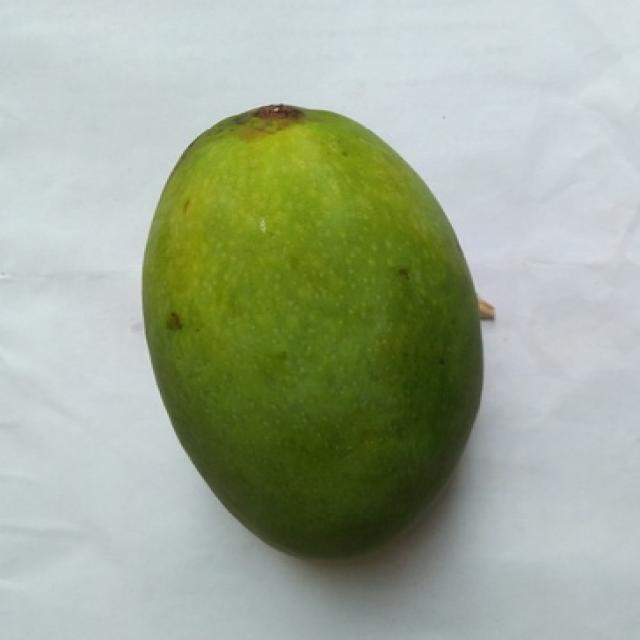Mango: (142, 106, 480, 556)
